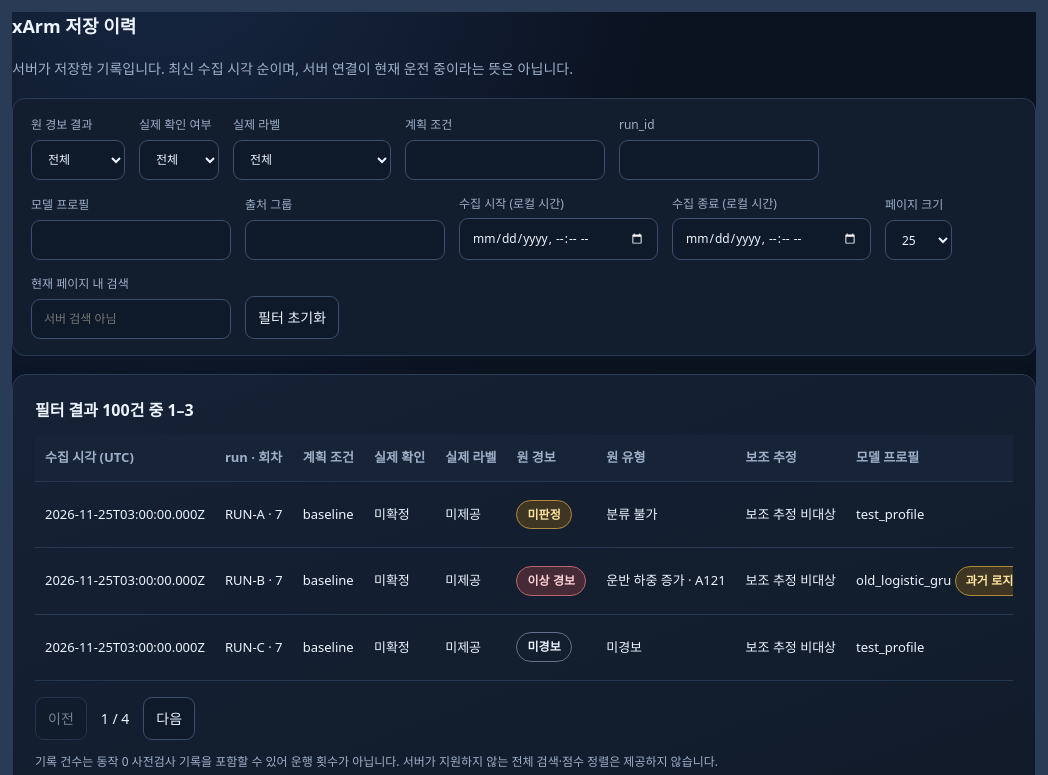
XarmHistory › 현재 페이지 내 검색은 범위를 명시한다
Expected: the text "RUN-A · 7" is shown, [215,481,293,548]
Step 1. Type "RUN-B" into the field with placeholder "서버 검색 아님" → x=131, y=319, box [31,299,231,339]
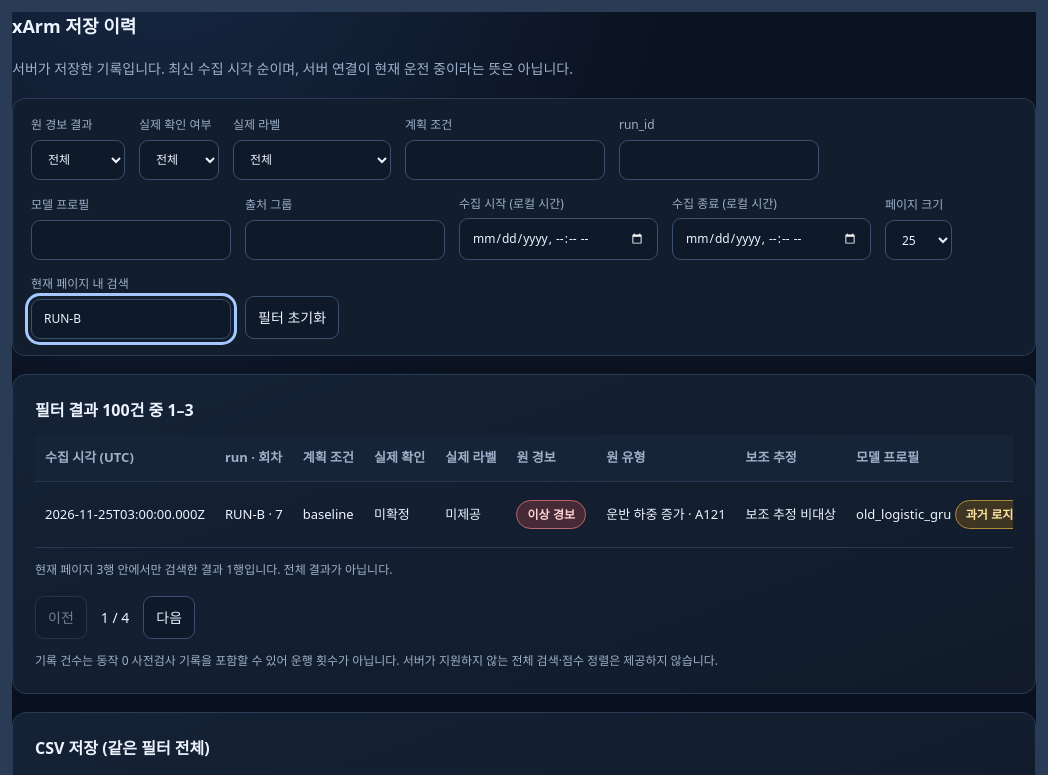
Result: the text "현재 페이지 3행 안에서만 검색한 결과 1행입니다. 전체 결과가 아닙니다." is shown at [35,561,392,578]
